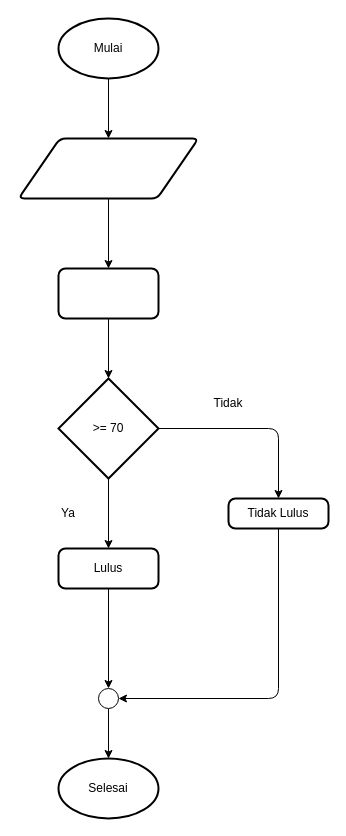
Some shapes in this 346 by 836 pixel diagram are drawn without their labels. Here are the shapes that lost their labels. From the top down, the centre of each, then its label:
At (108,168): "Nilai1, Nilai2, Nilai3".
At (108,293): "Rata-Rata".
